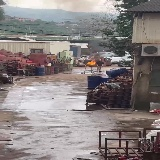fire: (86, 60, 96, 65)
